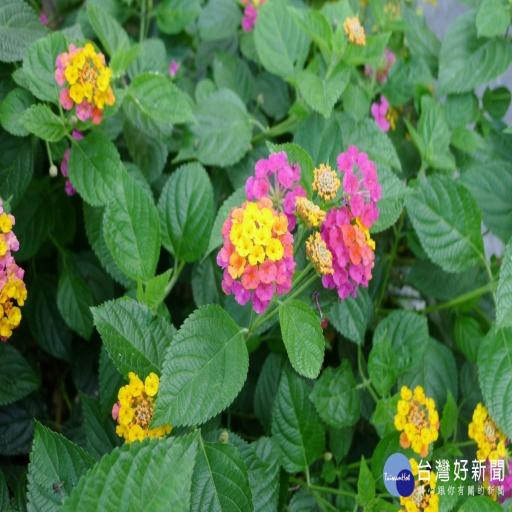Lantana: (212, 197, 298, 320), (302, 194, 380, 300), (49, 33, 119, 136)
